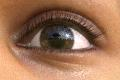eye: (40, 25, 74, 50)
